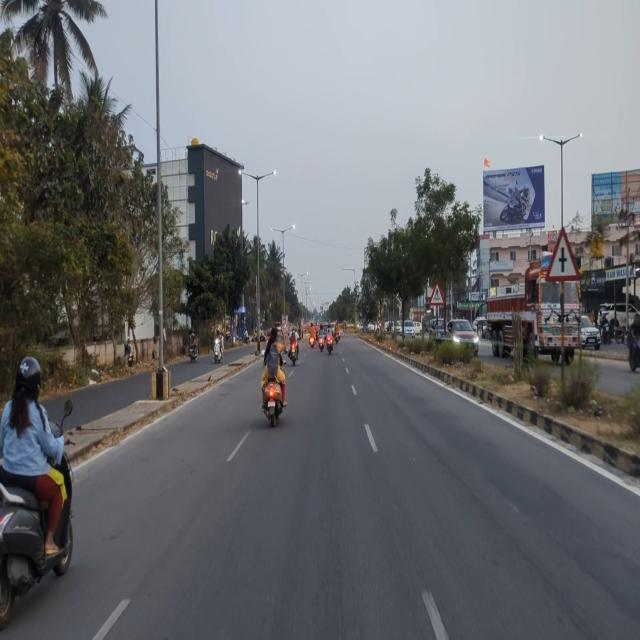bien_cam: (544, 216, 583, 286), (428, 277, 447, 310)
